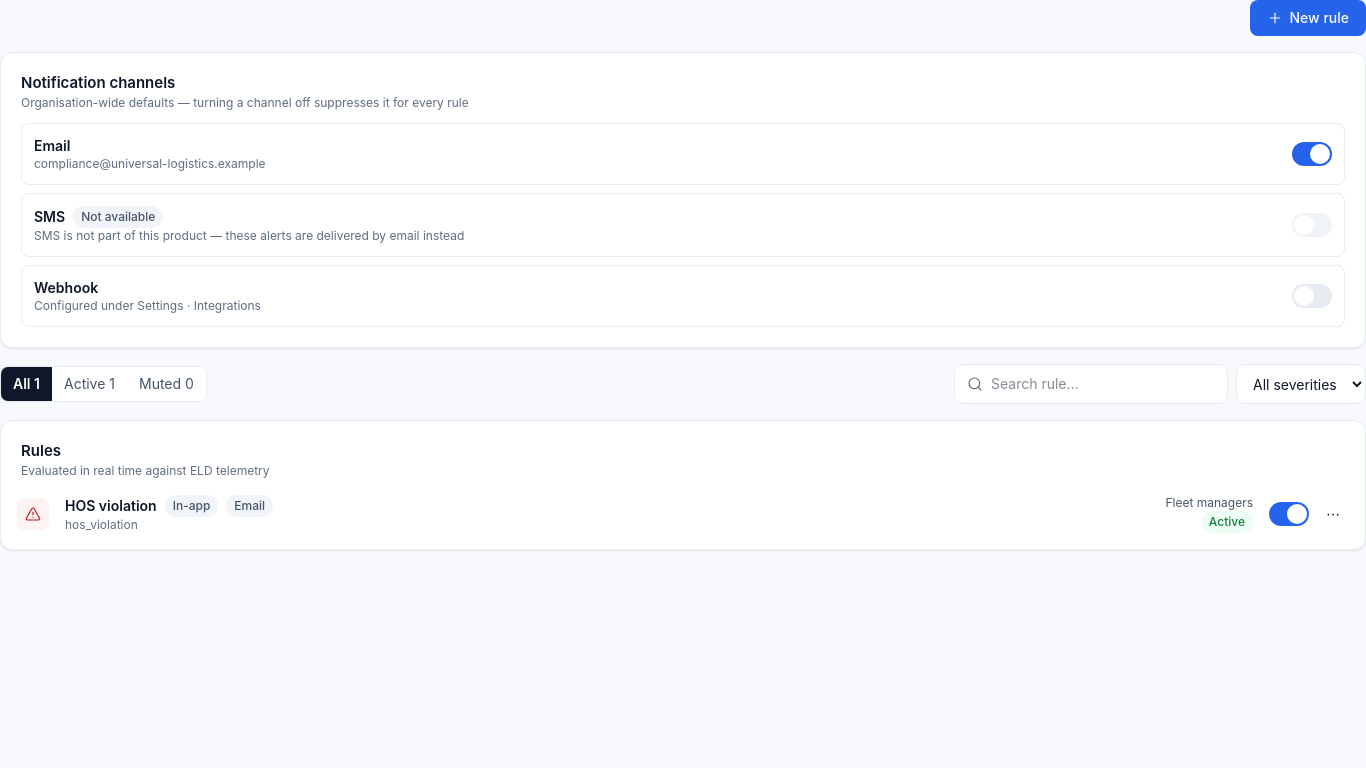
Test: AlertRulesPage — stage-2 row actions › Duplicate opens a create modal seeded with "(copy)"
The image size is (1366, 768).
Expected: the text "HOS violation" is shown, x1=65 y1=497 x2=157 y2=514
Click the button named "Rule actions".
click(1333, 514)  # box x1=1317 y1=498 x2=1349 y2=530
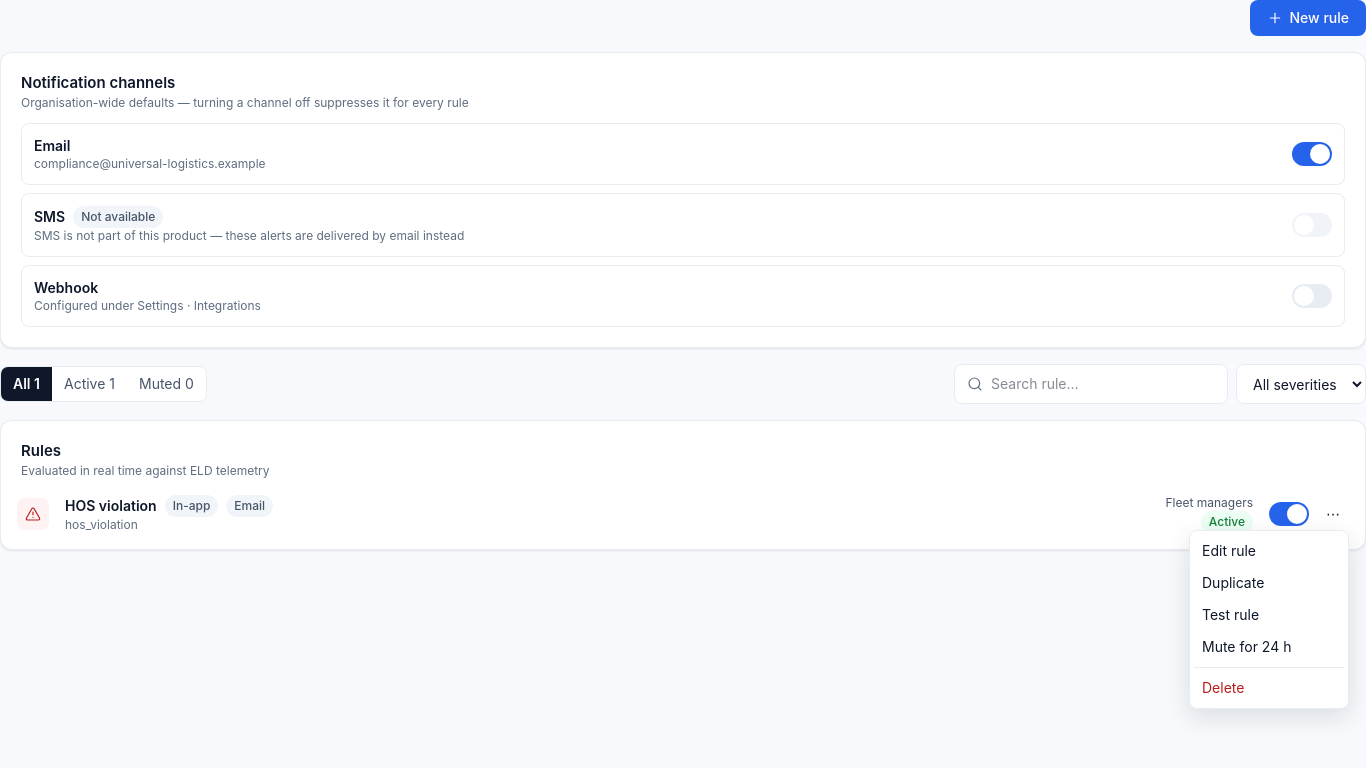
Click the menu item "Duplicate".
click(1233, 582)  # box x1=1202 y1=574 x2=1264 y2=591
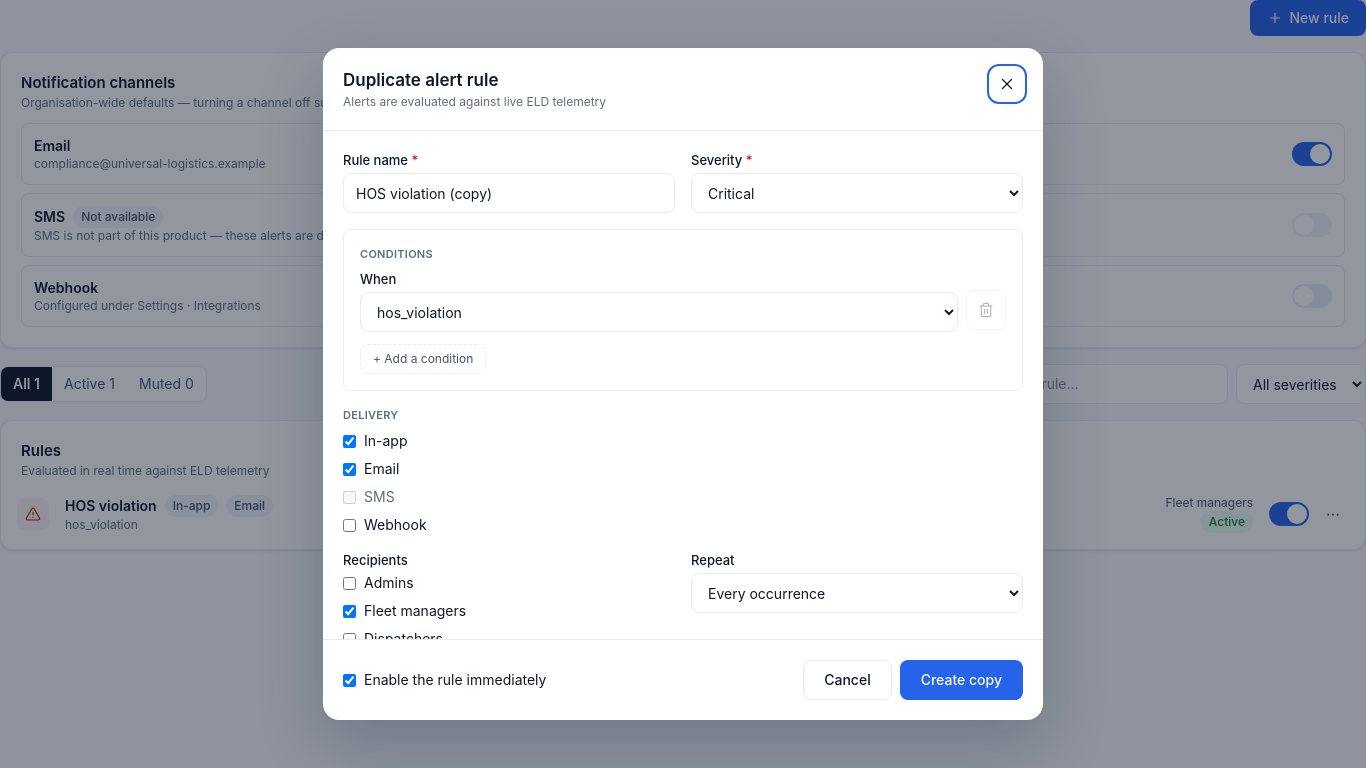
Expected: the field showing "HOS violation (copy)" is shown, x1=343 y1=173 x2=675 y2=213
